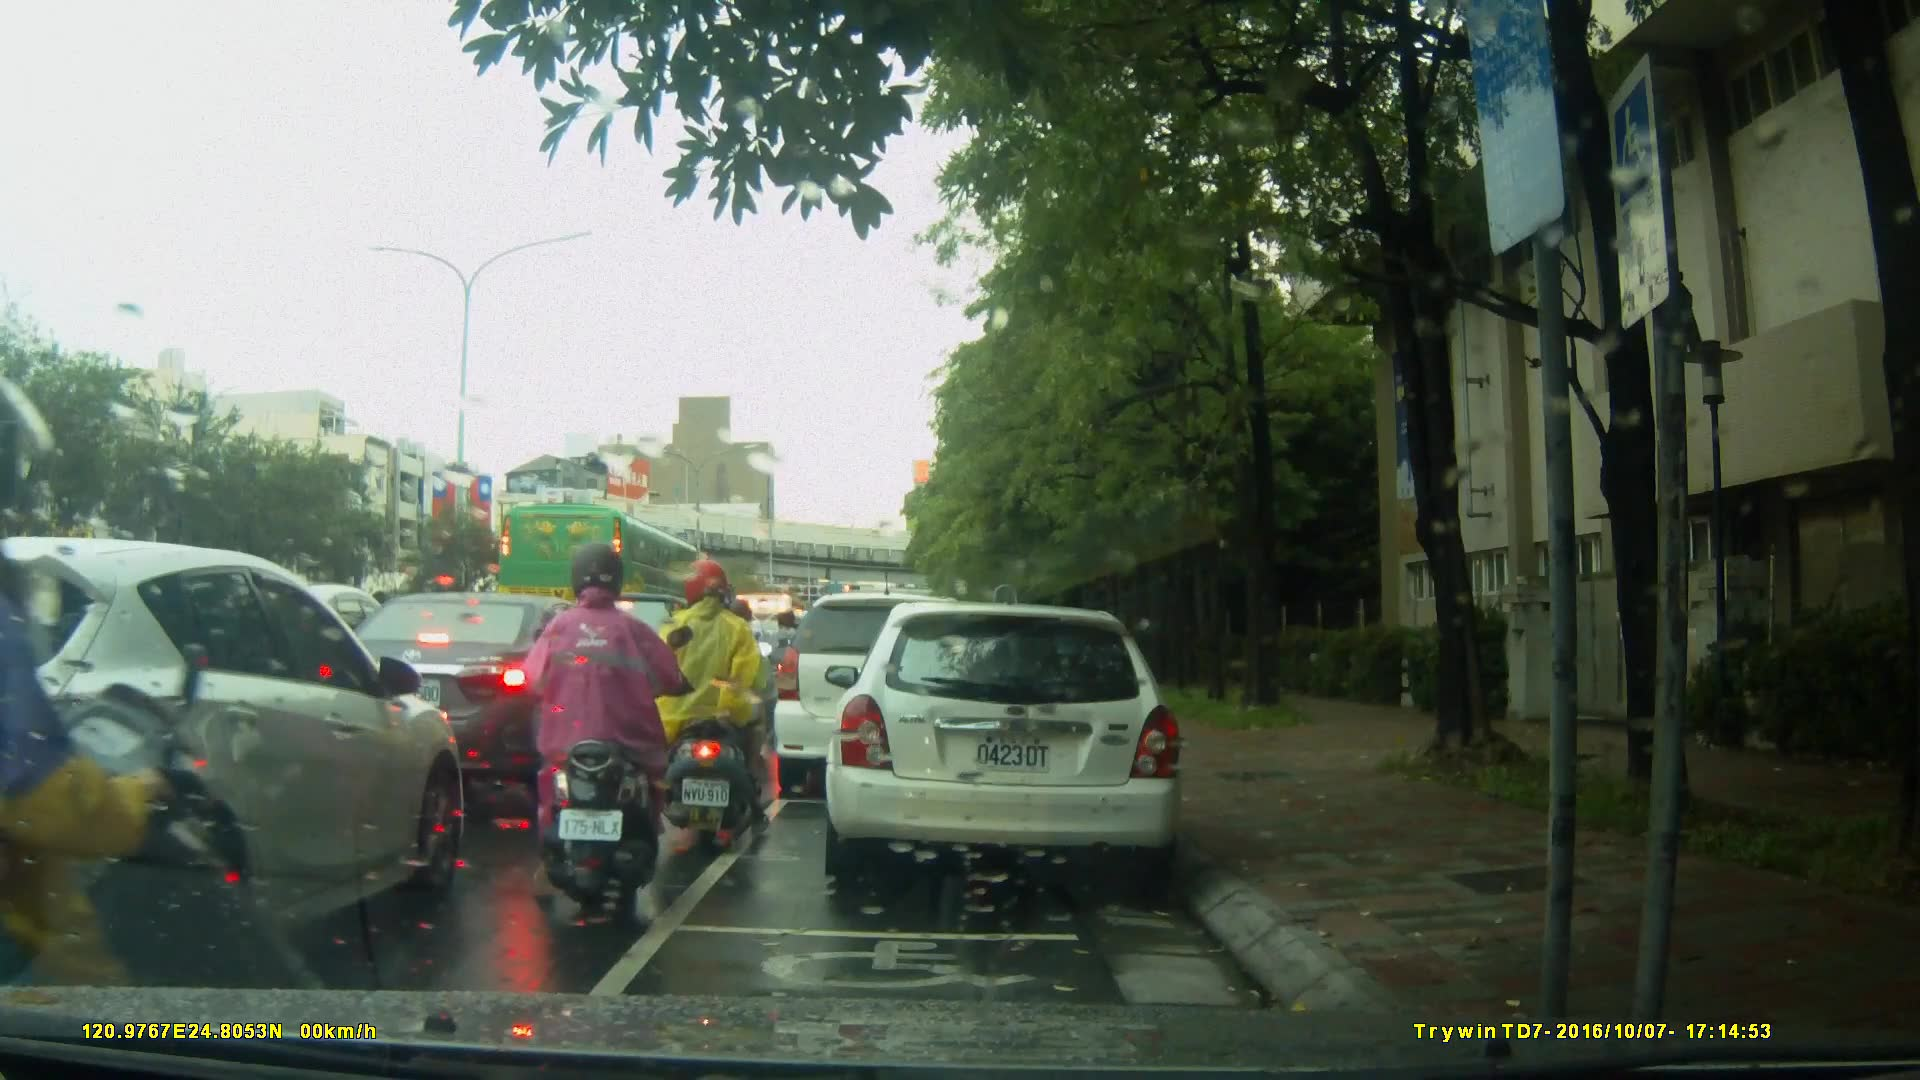rider: (539, 551, 676, 924), (663, 555, 773, 837), (720, 593, 793, 760), (766, 603, 811, 728)
vehicle: (5, 537, 469, 988), (831, 592, 1196, 897), (317, 589, 629, 776), (770, 590, 999, 804), (496, 501, 712, 636)
